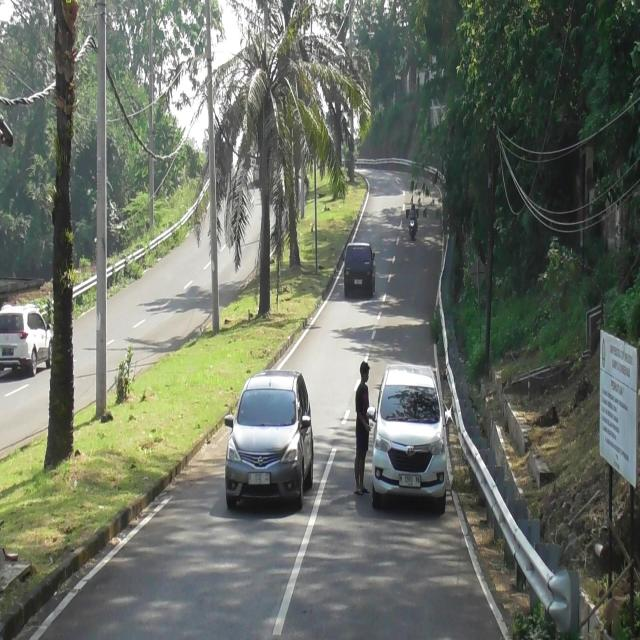motorcycle: (408, 216, 416, 241)
person: (408, 203, 417, 218)
rider_region: (408, 201, 417, 241)
